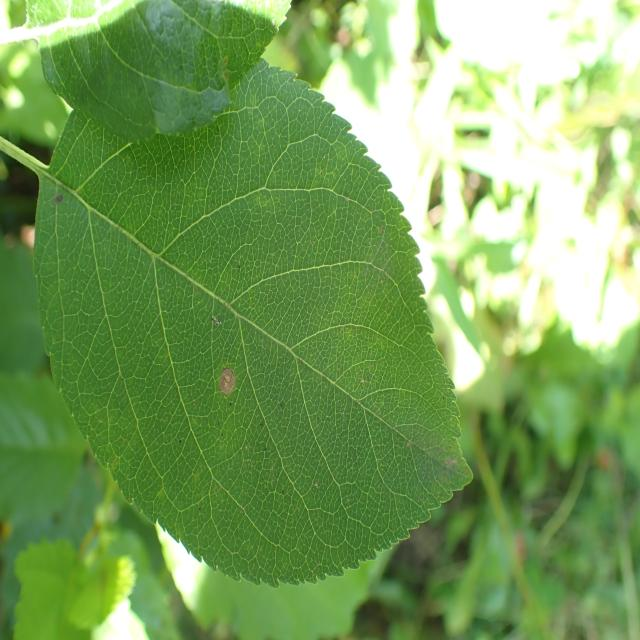Black Rot: (212, 357, 255, 408)
